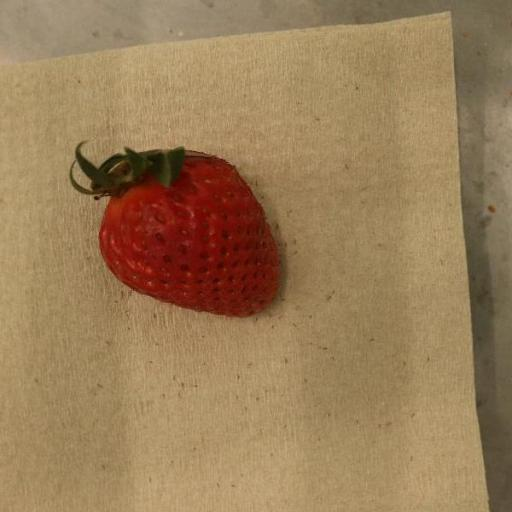Strawberry: (68, 142, 280, 319)
